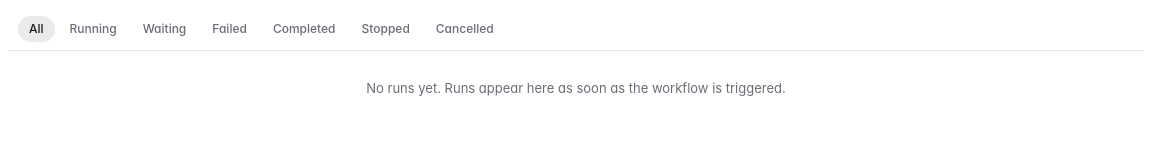
RunList › filters by status
Check: the text "No runs yet" is shown, box [366,80,786,96]
What coordinates should you click on to do the following:
click the button "Failed"
I would click on:
 (230, 29)
Its box is [201,16,258,42].
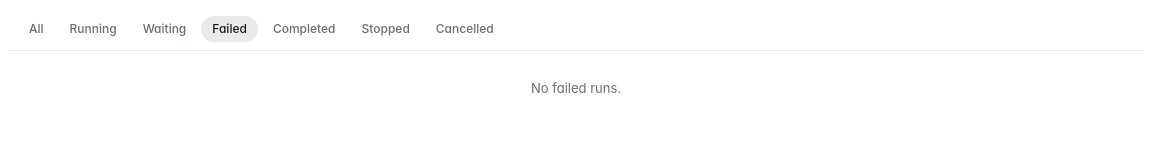
Check: the text "No failed runs." is shown, box [531,80,621,96]
